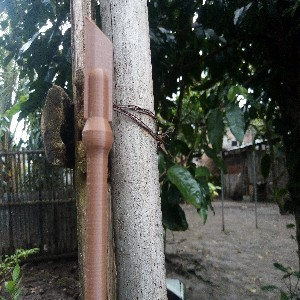cutter: (81, 14, 115, 300)
